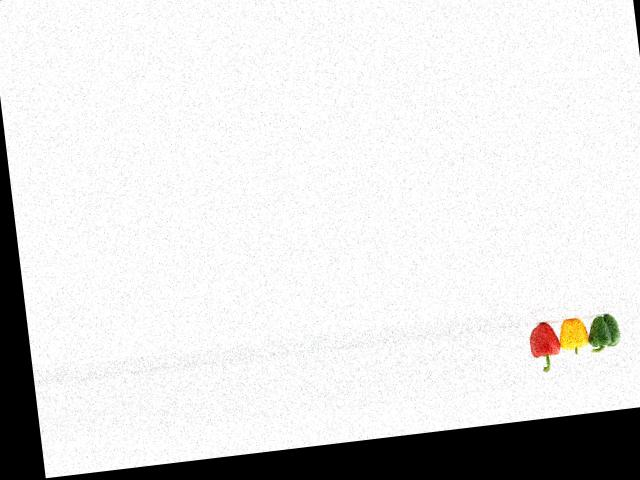bell_pepper: (518, 315, 566, 378)
